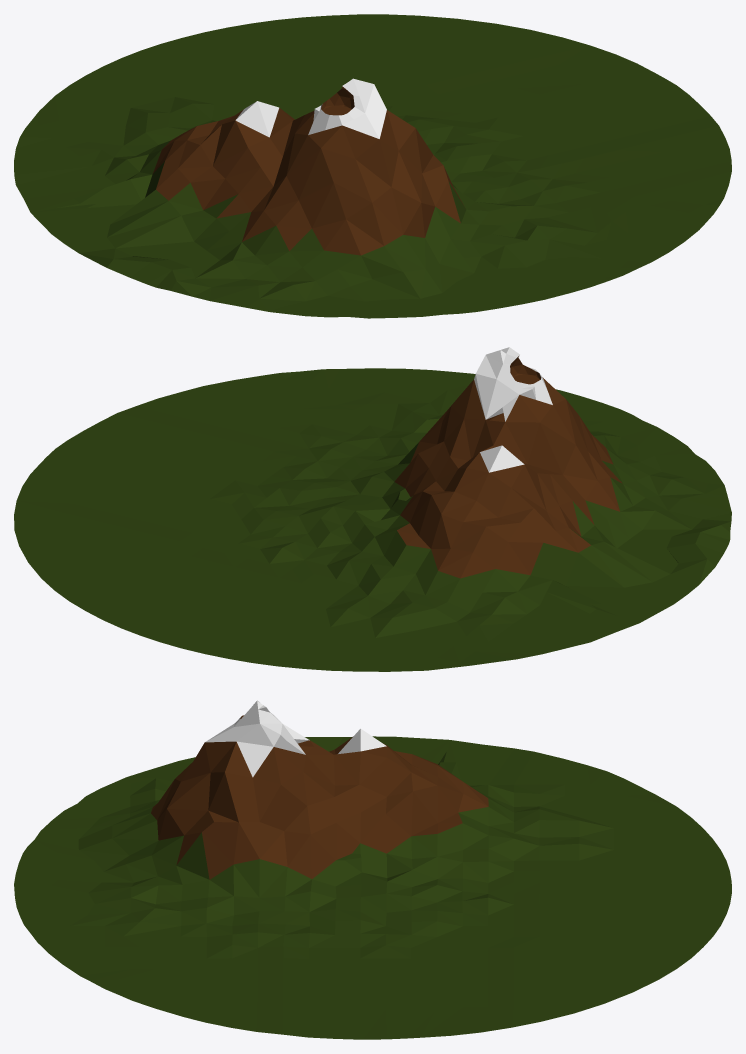
The model's file is Mountain5.glb.
3 views of the same model, one above another, from view 1: azimuth 30°, elevation 25°; view 2: azimuth 150°, elevation 25°; view 3: azimuth 270°, elevation 25° (orthographic).
Visible parts, largest first — view 1: green, Mountain; view 2: green, Mountain; view 3: green, Mountain.
Part boxes in pixels (x1=…): green: x1=14, y1=14, x2=731, y2=318; Mountain: x1=153, y1=78, x2=463, y2=255; green: x1=14, y1=368, x2=731, y2=671; Mountain: x1=394, y1=347, x2=622, y2=578; green: x1=14, y1=736, x2=731, y2=1039; Mountain: x1=151, y1=700, x2=488, y2=879.
Bounding box in the file's own units: 107 × 24.57 × 107.
